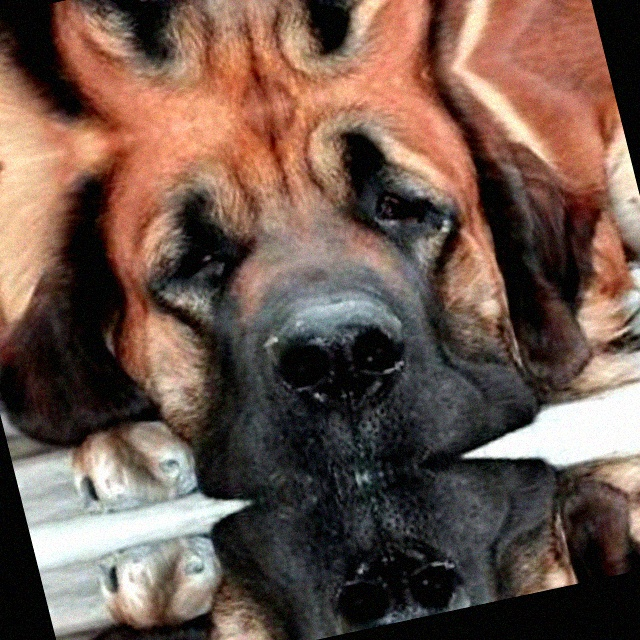dog: (40, 71, 556, 528), (130, 436, 591, 640), (3, 0, 462, 151)
